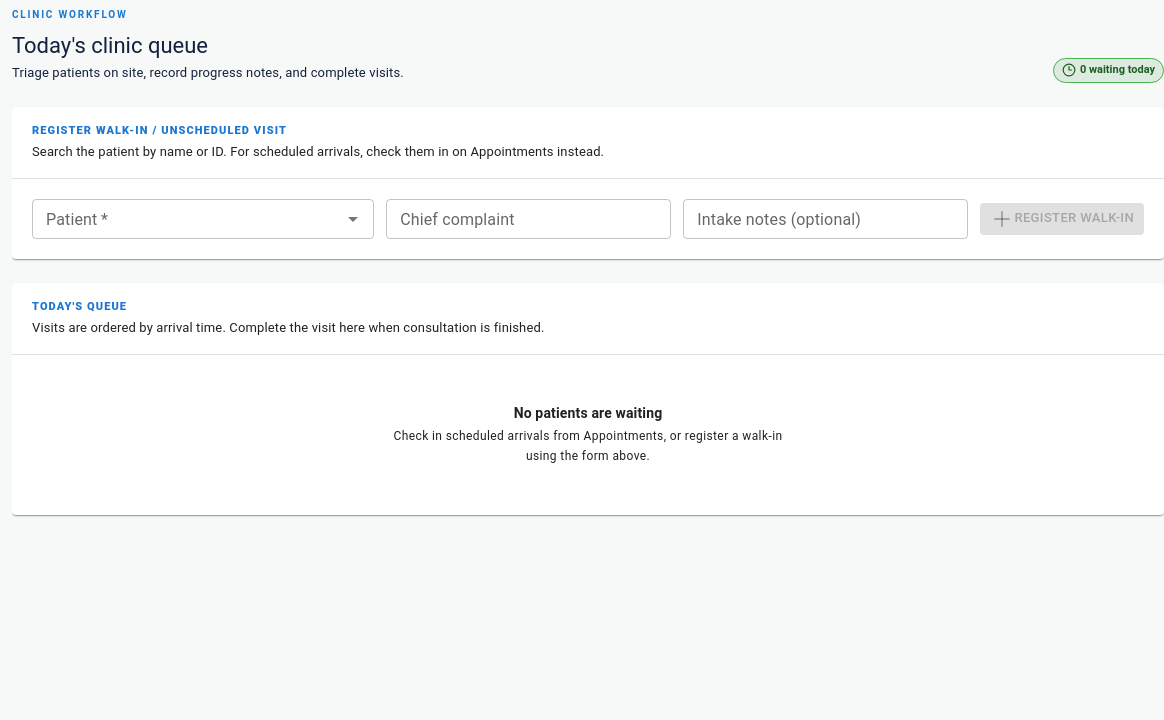
it: ClinicVisitsPage walk-in registration › shows the duplicate-visit response without adding another queue entry
Click the dropdown with placeholder "Search name or patient ID" at (187, 219), box left=38, top=205, right=335, bottom=233
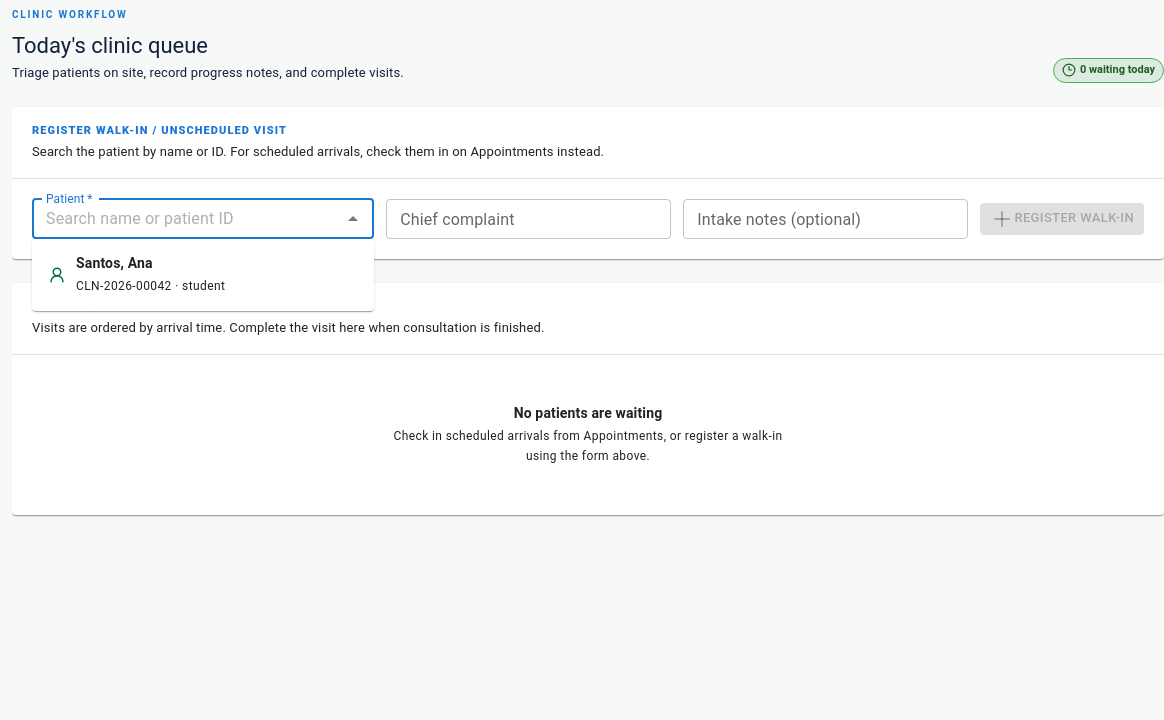
Click the text "Santos, Ana" at (114, 263), box left=76, top=255, right=153, bottom=271
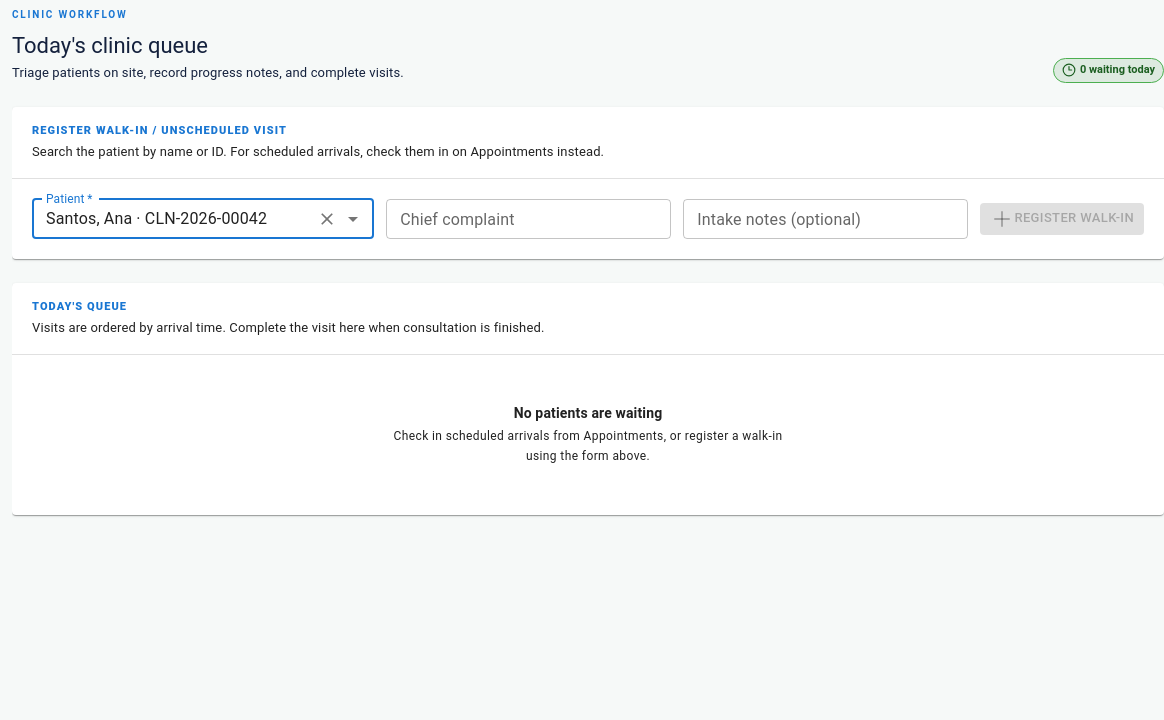
Type "Headache" into the field with placeholder "Reason for visit" at (529, 219), box left=386, top=199, right=671, bottom=239
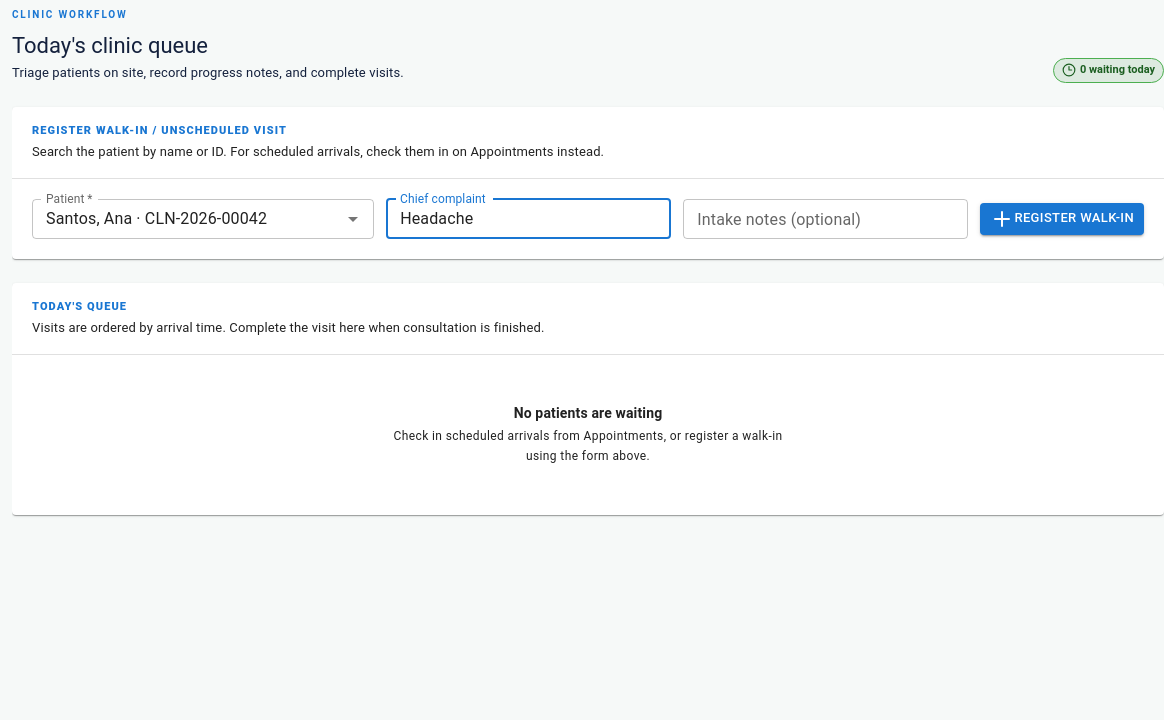
Click the button "Register walk-in" at (1062, 219), box left=980, top=203, right=1144, bottom=235
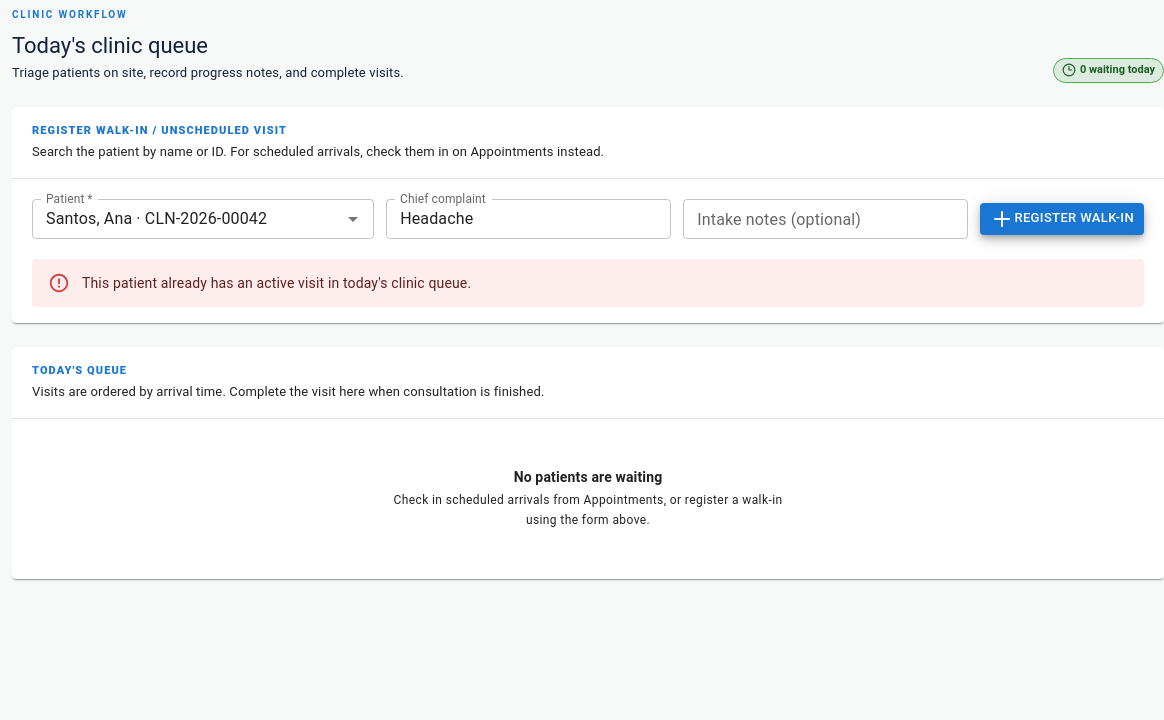
Result: the text "This patient already has an active visit in today's clinic queue." is shown at left=82, top=275, right=471, bottom=291
